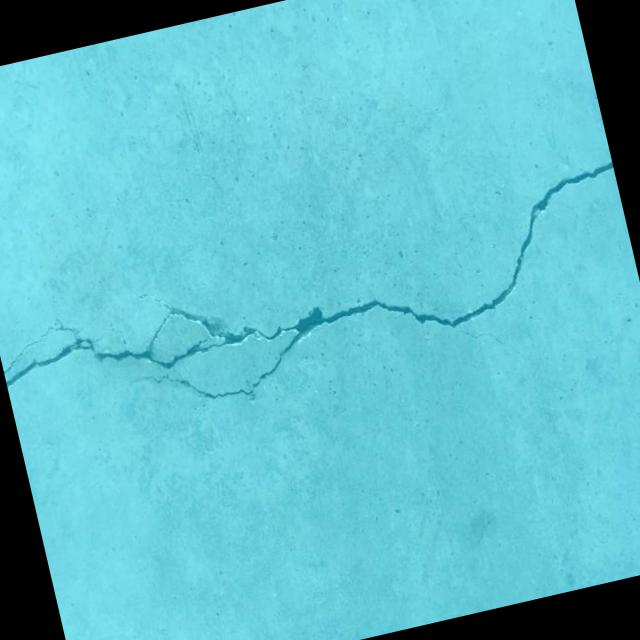crack: (0, 159, 640, 448)
